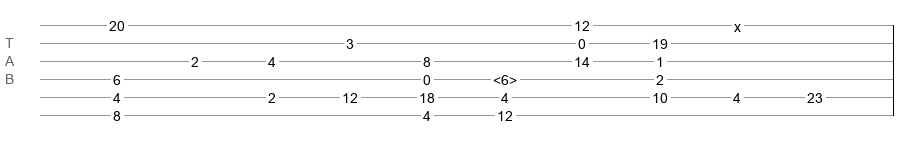0: (423, 72, 431, 82), (578, 36, 586, 46)
1: (656, 54, 664, 64)
10: (652, 90, 668, 100)
12: (342, 90, 358, 100), (497, 108, 513, 118), (574, 18, 590, 28)
14: (574, 54, 590, 64)
18: (419, 90, 435, 100)
19: (652, 36, 668, 46)
2: (191, 54, 199, 64), (268, 90, 276, 100), (656, 72, 664, 82)
20: (109, 18, 125, 28)
23: (807, 90, 823, 100)
3: (346, 36, 354, 46)
4: (113, 90, 121, 100), (268, 54, 276, 64), (423, 108, 431, 118), (501, 90, 509, 100), (733, 90, 741, 100)
6: (113, 72, 121, 82)
8: (113, 108, 121, 118), (423, 54, 431, 64)
harmonic: (493, 72, 517, 82)
x: (734, 19, 741, 27)
